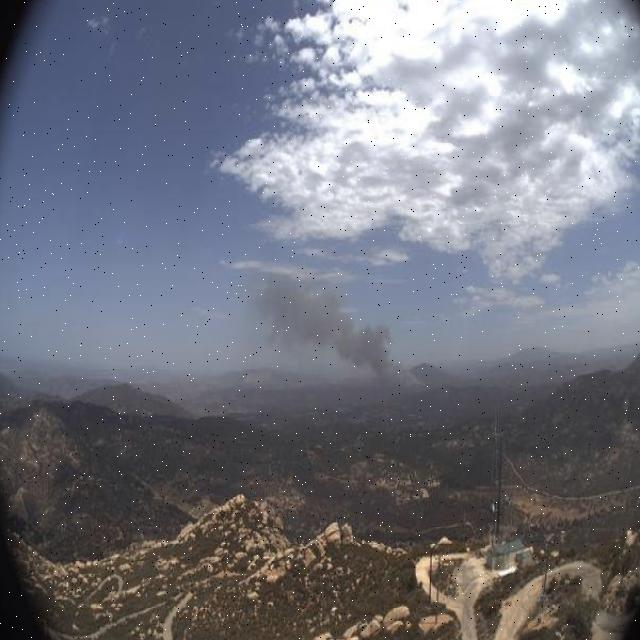smoke: (245, 262, 428, 405)
